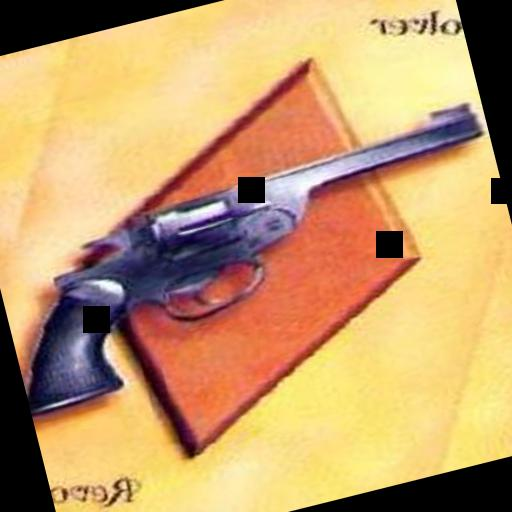Handgun: (0, 96, 512, 417)
